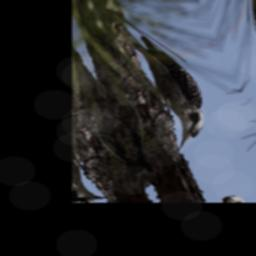Woodpecker: (122, 12, 224, 158)
